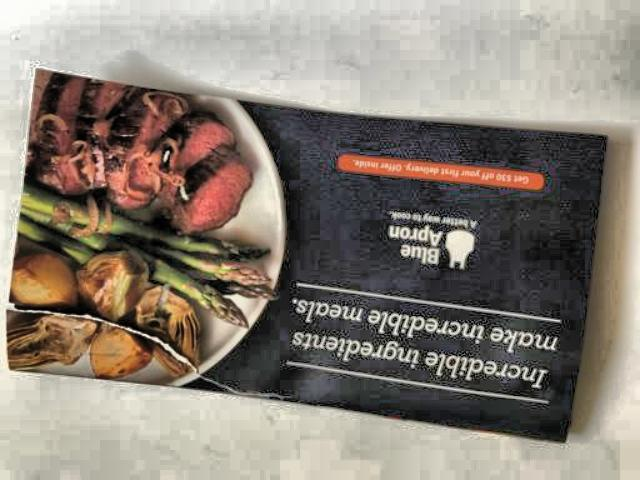Paper: (0, 57, 640, 456)
